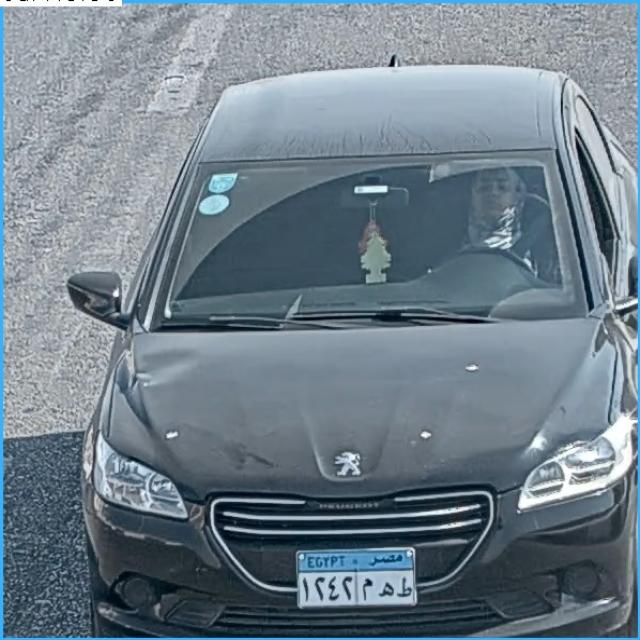windshield: (143, 161, 592, 315)
